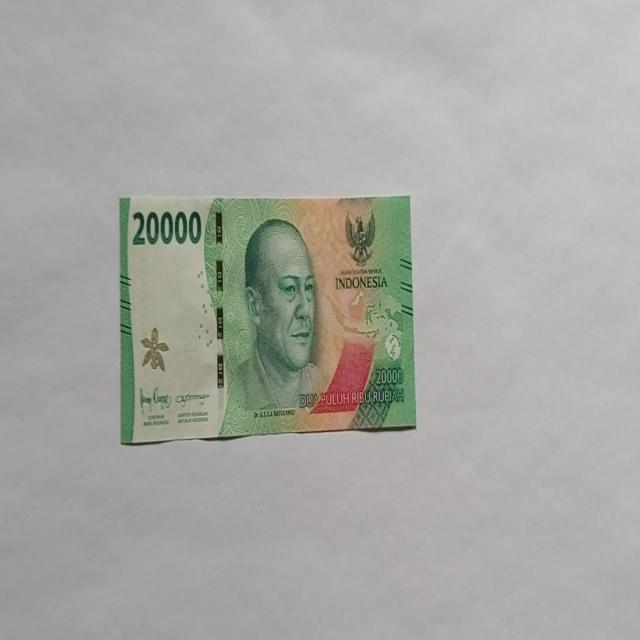dua puluh ribu rupiah: (118, 192, 416, 444), (220, 216, 331, 434)
